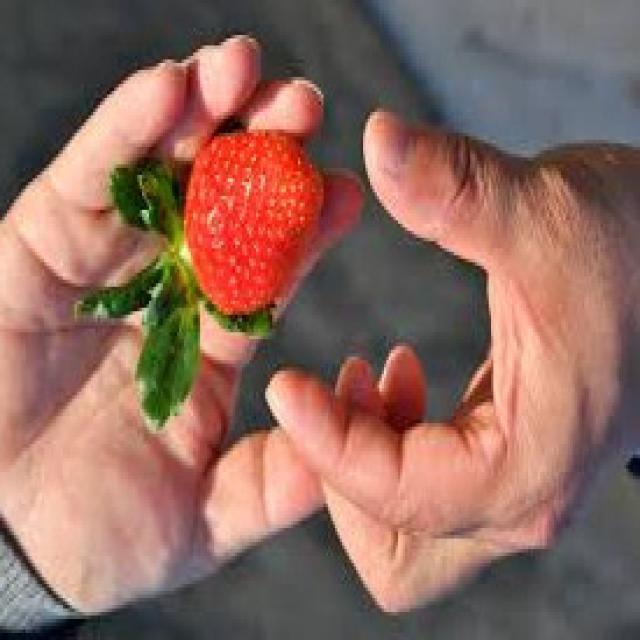Healthy Fruit: (182, 128, 325, 316)
